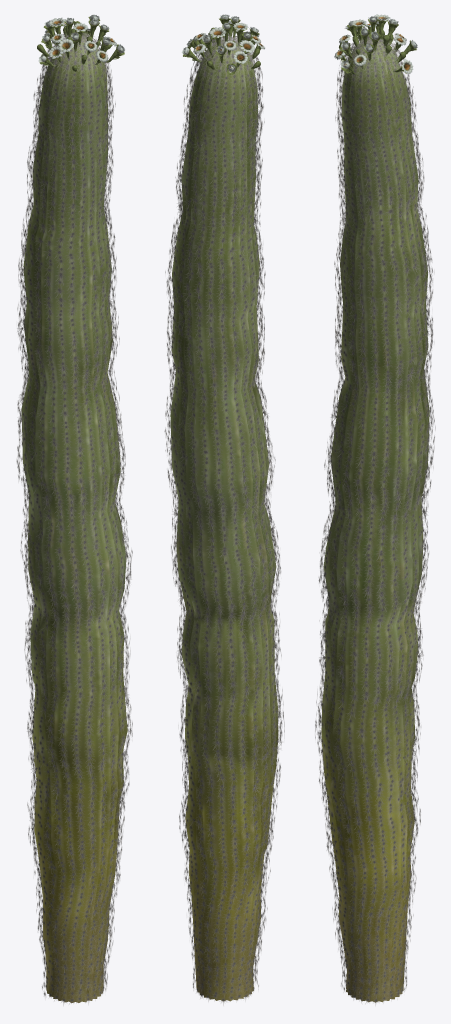
Rendered from saguaro.glb.
3 views of the same model, side by side, from view 1: azimuth 90°, elevation 25°; view 2: azimuth 150°, elevation 25°; view 3: azimuth 330°, elevation 25° (orthographic).
Parts seen in each view (by area): view 1: Carnegiea_gigantea_HD_Carnegiea bark 02_0, Carnegiea_gigantea_HD_Cactus spines 01_0, Carnegiea_gigantea_HD_Carnegiea flower stalk_0, Carnegiea_gigantea_HD_Carnegiea sepal 01_0, Carnegiea_gigantea_HD_Carnegiea petal 02_0, Carnegiea_gigantea_HD_Carnegiea petal 01_0, Carnegiea_gigantea_HD_Carnegiea petal 03_0; view 2: Carnegiea_gigantea_HD_Carnegiea bark 02_0, Carnegiea_gigantea_HD_Cactus spines 01_0, Carnegiea_gigantea_HD_Carnegiea flower stalk_0, Carnegiea_gigantea_HD_Carnegiea sepal 01_0, Carnegiea_gigantea_HD_Carnegiea petal 02_0, Carnegiea_gigantea_HD_Carnegiea petal 01_0, Carnegiea_gigantea_HD_Carnegiea petal 03_0; view 3: Carnegiea_gigantea_HD_Carnegiea bark 02_0, Carnegiea_gigantea_HD_Cactus spines 01_0, Carnegiea_gigantea_HD_Carnegiea flower stalk_0, Carnegiea_gigantea_HD_Carnegiea sepal 01_0, Carnegiea_gigantea_HD_Carnegiea petal 02_0, Carnegiea_gigantea_HD_Carnegiea petal 01_0, Carnegiea_gigantea_HD_Carnegiea petal 03_0.
Boxes of the visible parts, x1,y1,x2,y2 form: Carnegiea_gigantea_HD_Carnegiea bark 02_0: (21, 38, 127, 1002); Carnegiea_gigantea_HD_Cactus spines 01_0: (16, 32, 132, 1005); Carnegiea_gigantea_HD_Carnegiea flower stalk_0: (37, 21, 120, 71); Carnegiea_gigantea_HD_Carnegiea sepal 01_0: (39, 17, 124, 65); Carnegiea_gigantea_HD_Carnegiea petal 02_0: (39, 14, 124, 62); Carnegiea_gigantea_HD_Carnegiea petal 01_0: (38, 16, 123, 62); Carnegiea_gigantea_HD_Carnegiea petal 03_0: (41, 15, 123, 60); Carnegiea_gigantea_HD_Carnegiea bark 02_0: (170, 40, 278, 1001); Carnegiea_gigantea_HD_Cactus spines 01_0: (164, 34, 284, 1005); Carnegiea_gigantea_HD_Carnegiea flower stalk_0: (186, 22, 260, 74); Carnegiea_gigantea_HD_Carnegiea sepal 01_0: (183, 17, 263, 74); Carnegiea_gigantea_HD_Carnegiea petal 02_0: (183, 15, 264, 71); Carnegiea_gigantea_HD_Carnegiea petal 01_0: (182, 14, 264, 72); Carnegiea_gigantea_HD_Carnegiea petal 03_0: (181, 14, 264, 71); Carnegiea_gigantea_HD_Carnegiea bark 02_0: (321, 40, 429, 1002); Carnegiea_gigantea_HD_Cactus spines 01_0: (315, 35, 435, 1005); Carnegiea_gigantea_HD_Carnegiea flower stalk_0: (338, 20, 411, 74); Carnegiea_gigantea_HD_Carnegiea sepal 01_0: (336, 19, 416, 73); Carnegiea_gigantea_HD_Carnegiea petal 02_0: (334, 14, 416, 74); Carnegiea_gigantea_HD_Carnegiea petal 01_0: (335, 16, 417, 73); Carnegiea_gigantea_HD_Carnegiea petal 03_0: (340, 14, 417, 69).
Bounding box in the file's own units: 0.6207 × 5.55 × 0.6187.
Materials: 9 (9 with a texture image).
